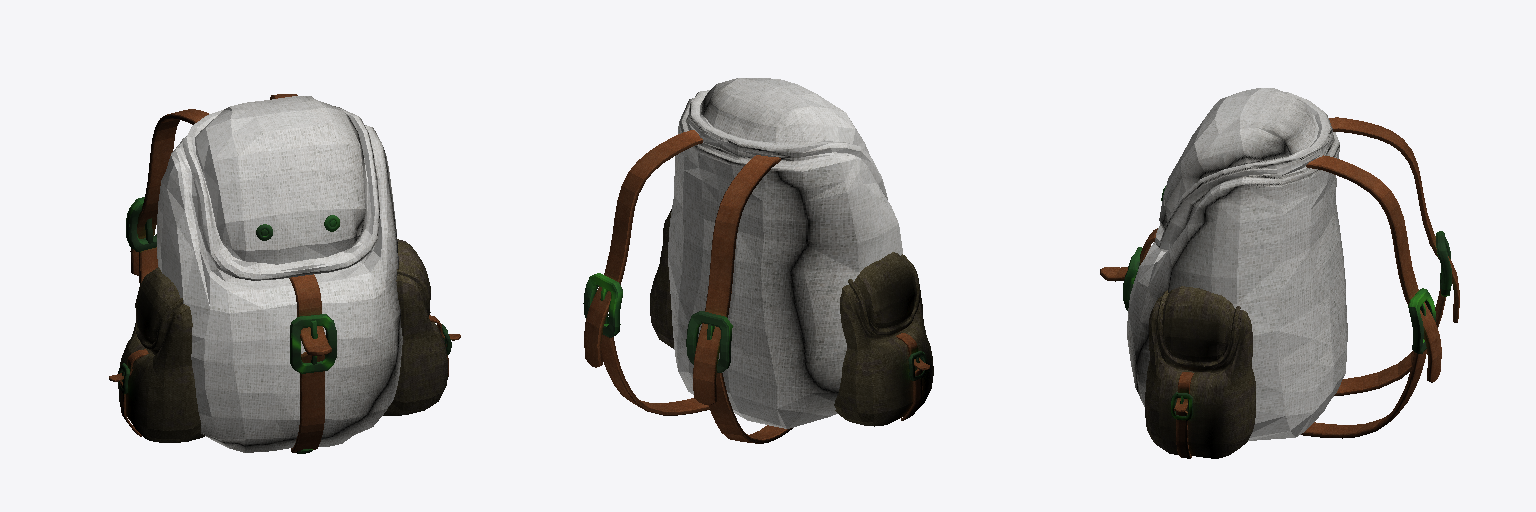
3 views of the same model, side by side, from view 1: azimuth 30°, elevation 25°; view 2: azimuth 150°, elevation 25°; view 3: azimuth 270°, elevation 25° (orthographic).
Visible parts, largest first — view 1: Plane001, Plane003, Loft001, Plane005; view 2: Plane001, Loft001, Plane003, Plane005; view 3: Plane001, Plane003, Loft001, Plane005.
Part boxes in pixels (x1,y1,x2,y2): Plane001: (157,96,402,452); Plane003: (118,239,447,442); Loft001: (109,94,460,452); Plane005: (118,197,451,453); Plane001: (668,78,902,428); Loft001: (584,130,929,443); Plane003: (650,209,933,426); Plane005: (583,273,926,380); Plane001: (1127,88,1347,440); Plane003: (1145,286,1255,458); Loft001: (1100,117,1459,458); Plane005: (1123,186,1451,420).
Size of the model in its own units: 710 by 680 by 718.
Materials: 4 (4 with a texture image).